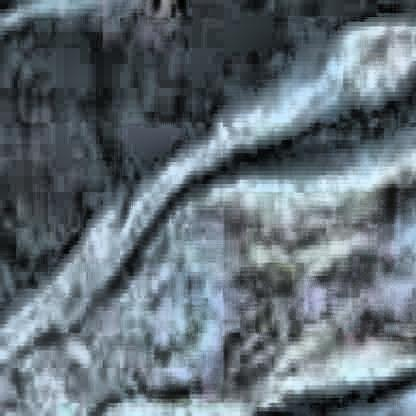sheen: (1, 20, 416, 416)
